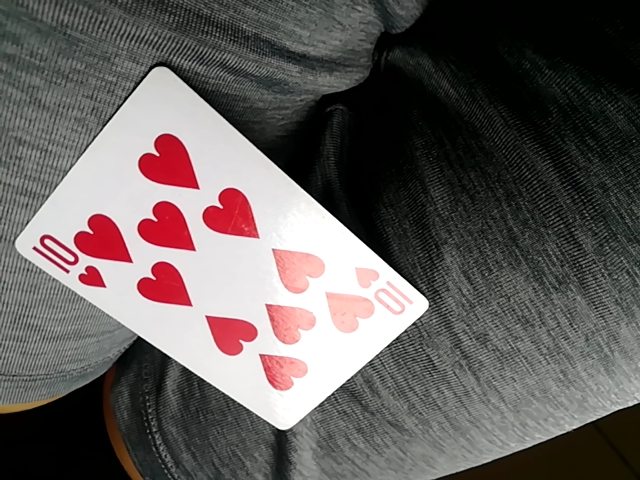hx 10: (21, 65, 428, 429)
